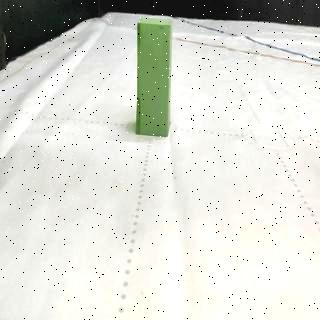greenbox: (134, 13, 174, 140)
